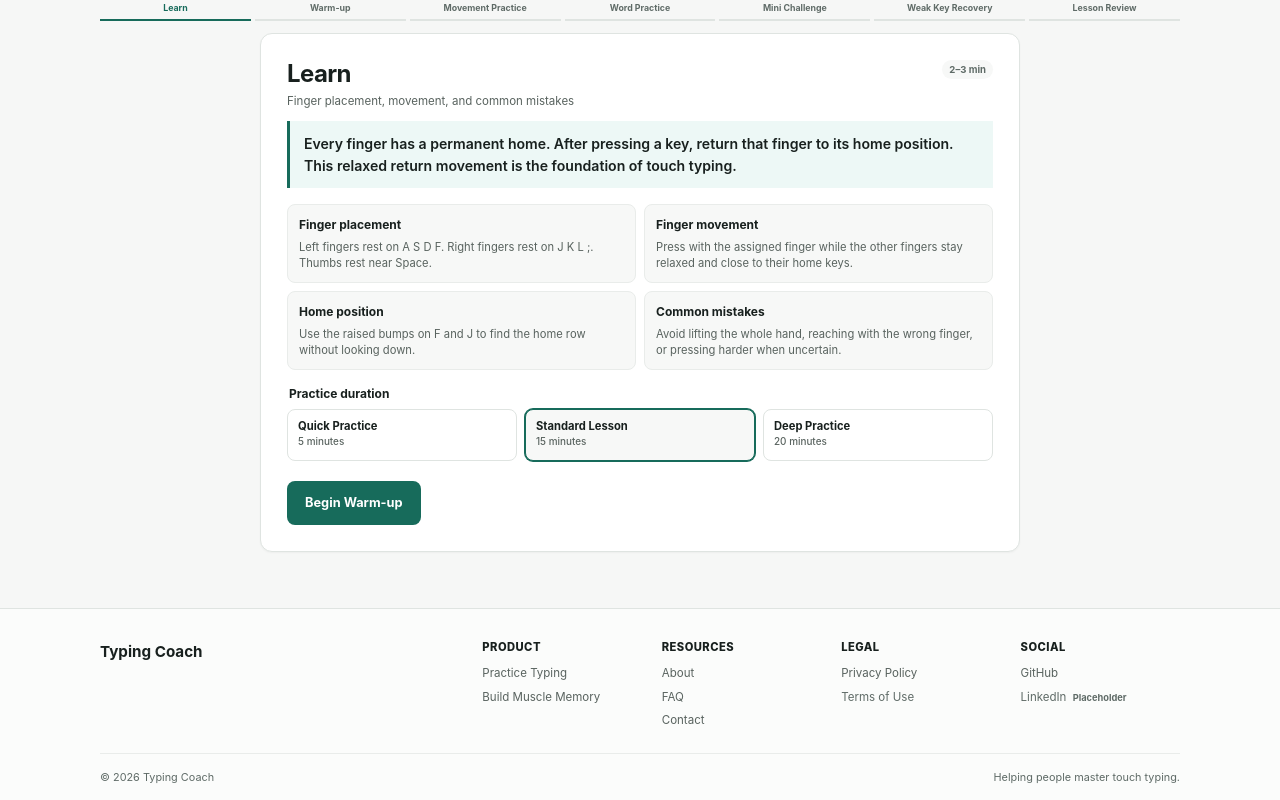
Test: Build Muscle Memory module › shows accuracy and progress without WPM or a timer
(page scrolled)
Step 1. Click the button "Begin Warm-up" → {"x": 354, "y": 504}, box [287,482,421,526]
(page scrolled)
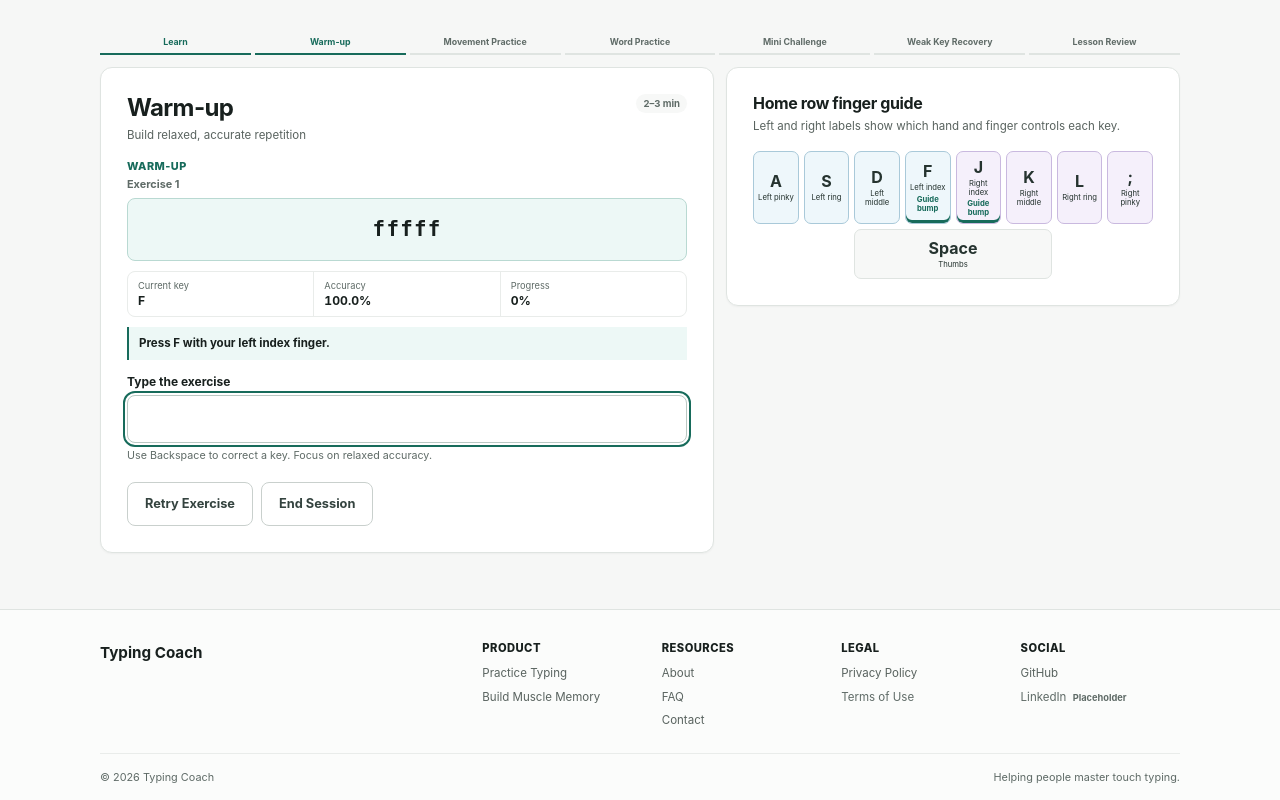
Result: the field labelled "Type the exercise" is shown at [127,394,687,442]
Result: the text "Use Backspace to correct a key. Focus on relaxed accuracy." is shown at [127,448,432,462]
